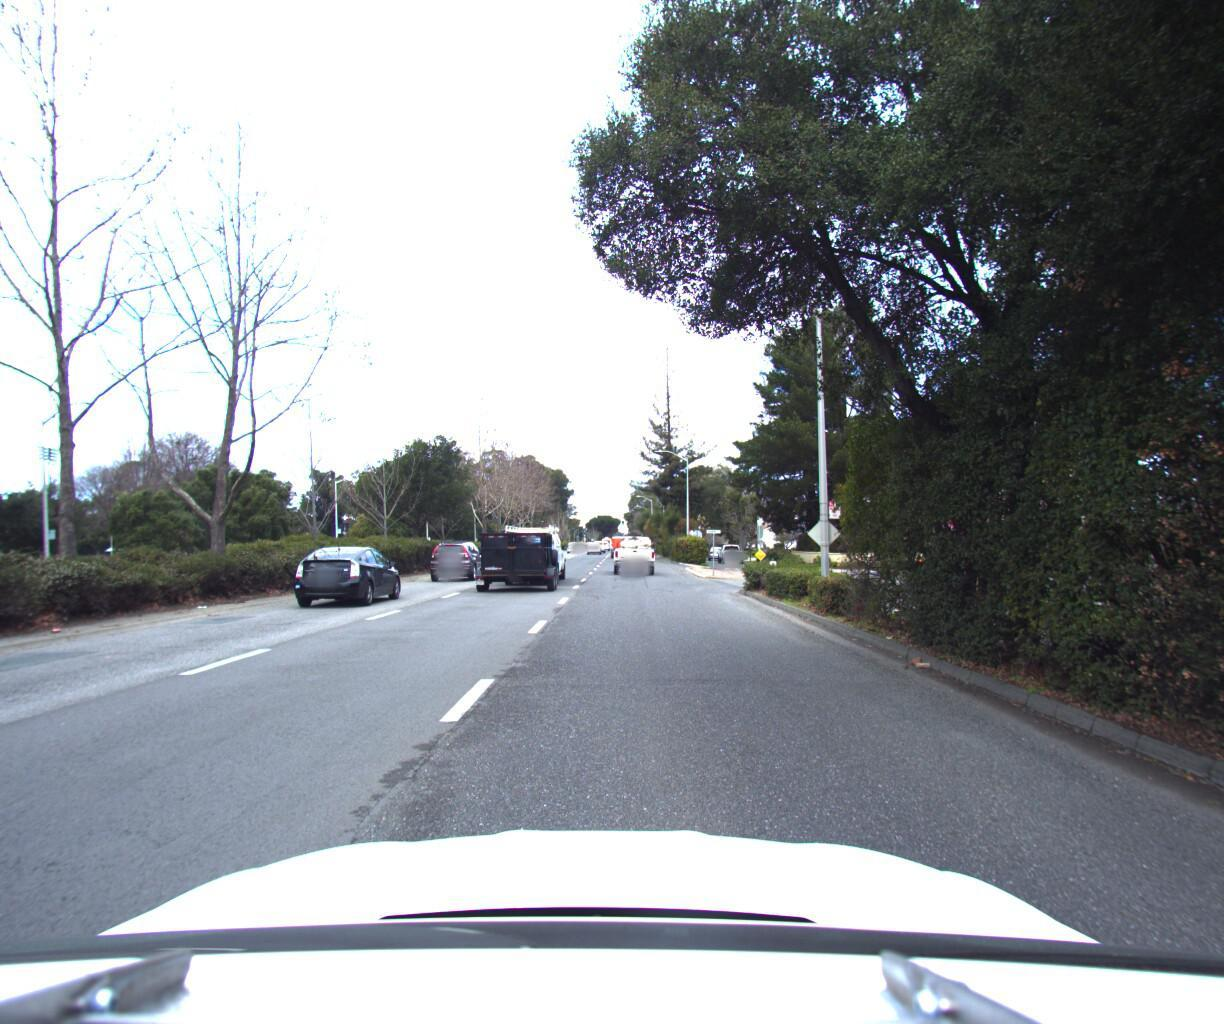car: (470, 509, 571, 589), (292, 538, 405, 603), (427, 533, 485, 575), (610, 523, 657, 569), (717, 534, 745, 554), (699, 532, 724, 553)
